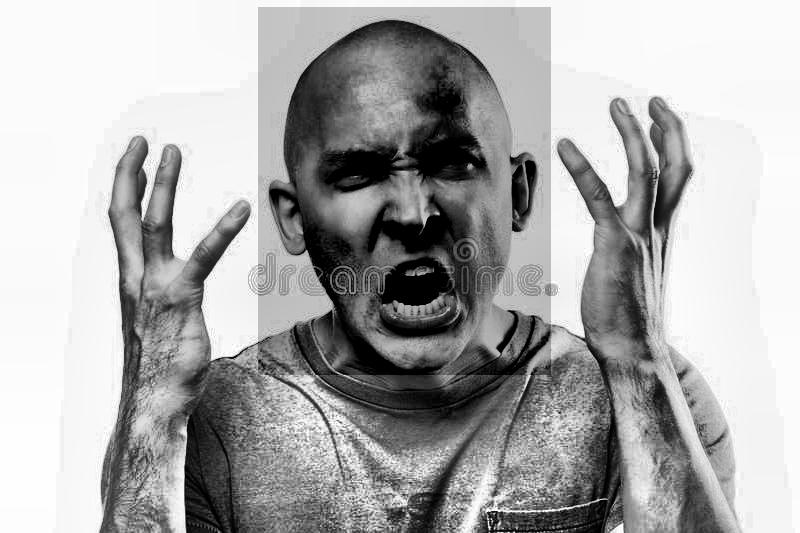angry: (259, 7, 552, 375)
